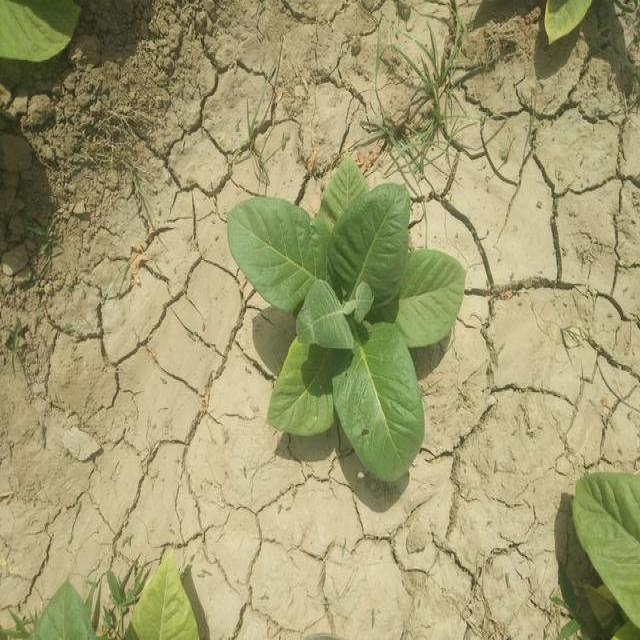crop: (222, 156, 466, 478), (45, 559, 194, 640), (575, 471, 640, 636), (0, 0, 82, 67), (539, 0, 599, 45)
